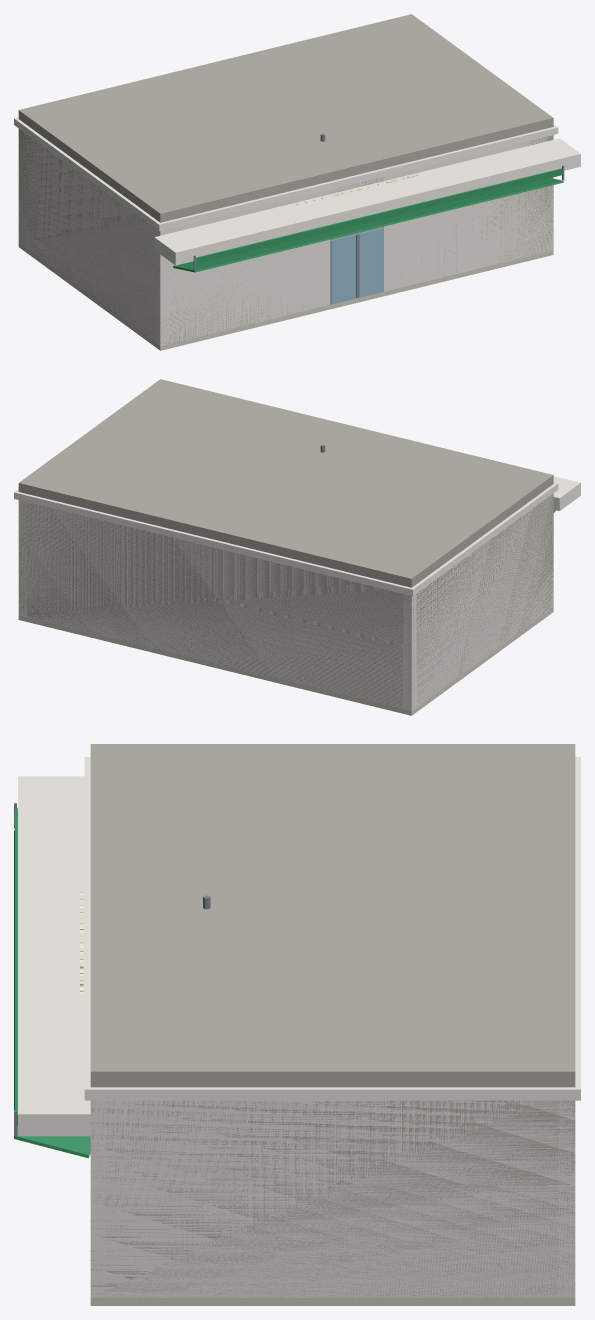
File: BLD_GasStation.fbx
3 renders of one model, top to bottom at view 1: azimuth 30°, elevation 25°; view 2: azimuth 150°, elevation 25°; view 3: azimuth 270°, elevation 25°, orthographic. The views are drawn at different scales.
Parts seen in each view (by area): view 1: BLD_GasStation__BODY, BLD_GasStation__COL_Main; view 2: BLD_GasStation__BODY, BLD_GasStation__COL_Main; view 3: BLD_GasStation__BODY, BLD_GasStation__COL_Main.
Part boxes in pixels (box(x1,y1,x2,y2)): BLD_GasStation__BODY: box(14, 14, 580, 350); BLD_GasStation__COL_Main: box(18, 111, 553, 345); BLD_GasStation__BODY: box(14, 379, 580, 715); BLD_GasStation__COL_Main: box(18, 475, 553, 710); BLD_GasStation__BODY: box(14, 744, 580, 1305); BLD_GasStation__COL_Main: box(90, 1071, 575, 1297).
Bounding box in the file's own units: 16.5 × 5.58 × 11.7.
